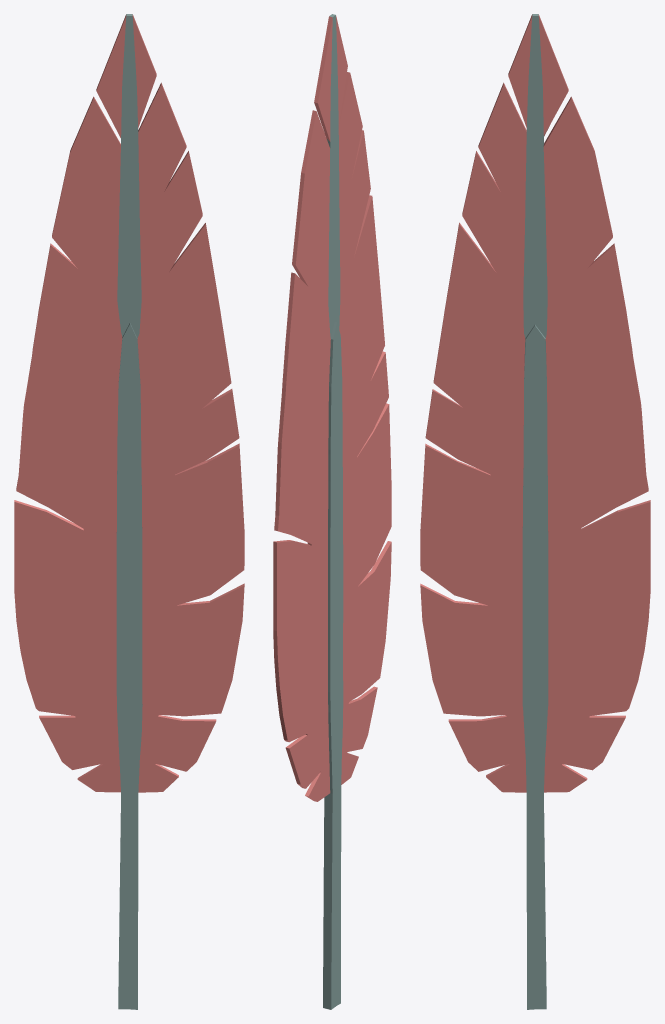
Rendered from kus_tüyü.fbx.
3 renders of one model, left to right at view 1: azimuth 90°, elevation 25°; view 2: azimuth 150°, elevation 25°; view 3: azimuth 270°, elevation 25°, orthographic.
Visible parts, largest first — view 1: kuş_tüyü; view 2: kuş_tüyü; view 3: kuş_tüyü.
Boxes of the visible parts, x1=… form: kuş_tüyü: x1=14, y1=14, x2=244, y2=1009; kuş_tüyü: x1=273, y1=14, x2=391, y2=1009; kuş_tüyü: x1=420, y1=14, x2=650, y2=1009.
Size of the model in its own units: 0.00955 by 1.09 by 0.2292.
